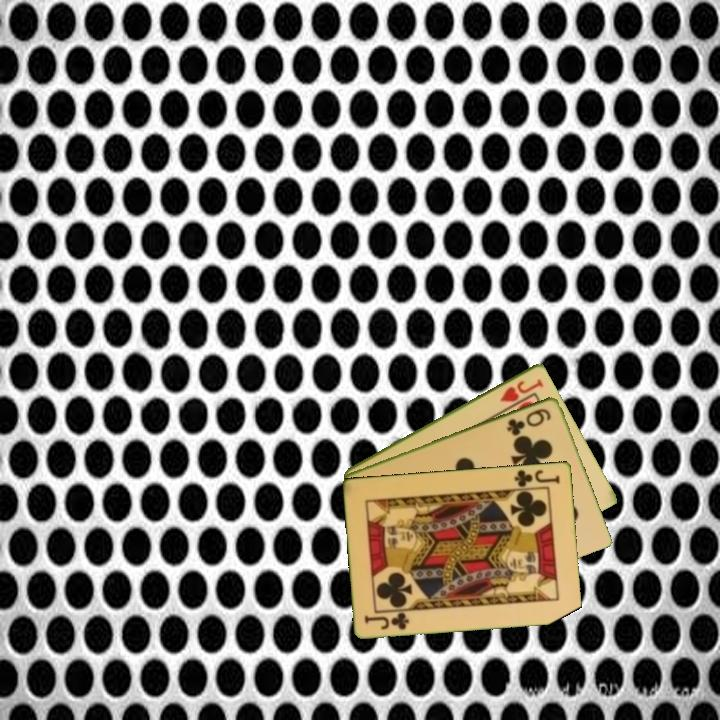6c: (503, 404, 554, 438)
Jc: (511, 466, 563, 489), (361, 609, 412, 632)
Jh: (496, 375, 546, 405)
